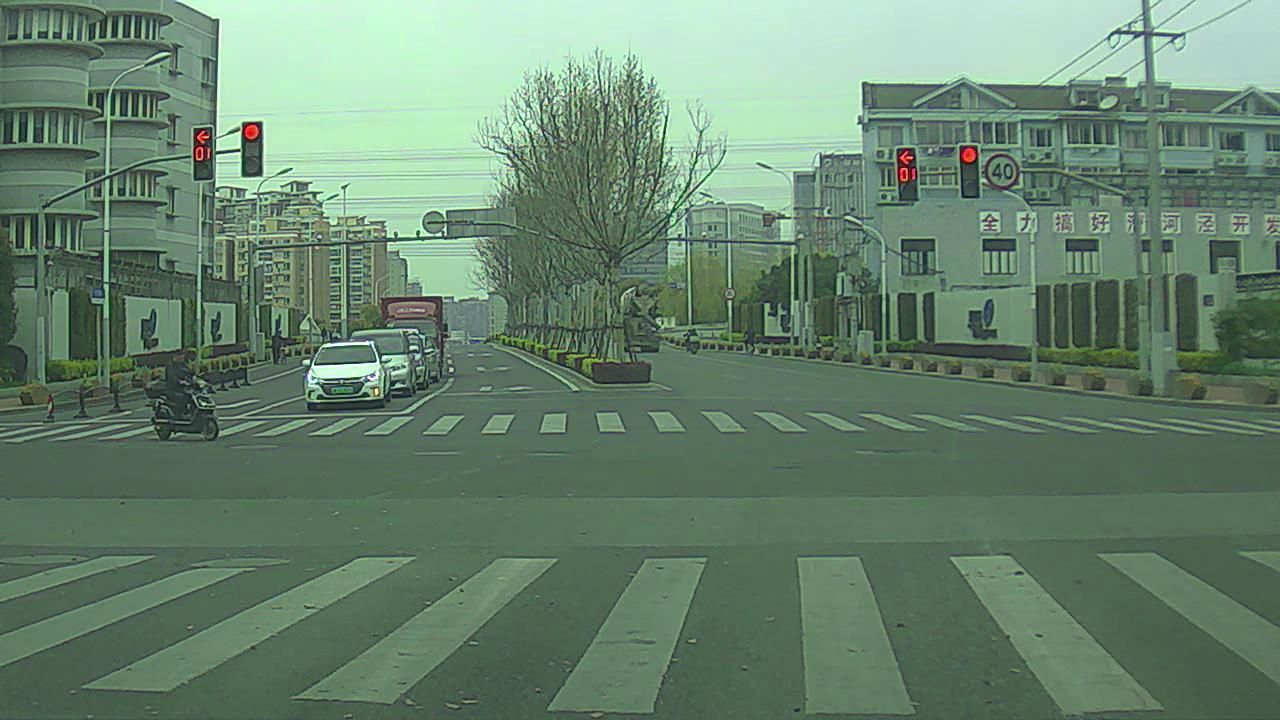traffic_light: (959, 141, 985, 202), (893, 145, 917, 204), (193, 128, 215, 181), (241, 120, 262, 175)
